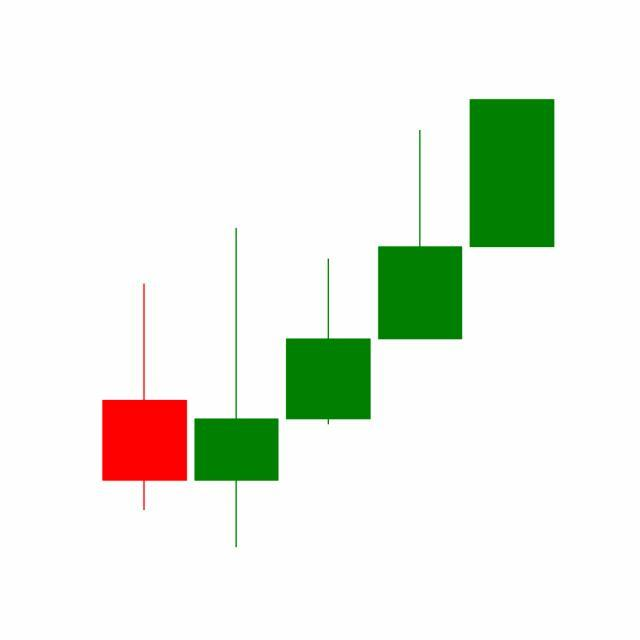Marubozu: (466, 99, 559, 250)
